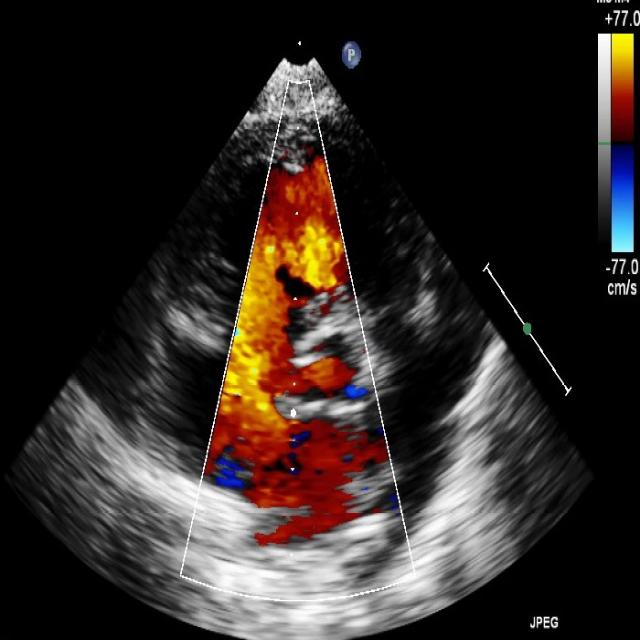ASDType2: (209, 412, 370, 510)
VSDType2: (228, 320, 357, 399)
